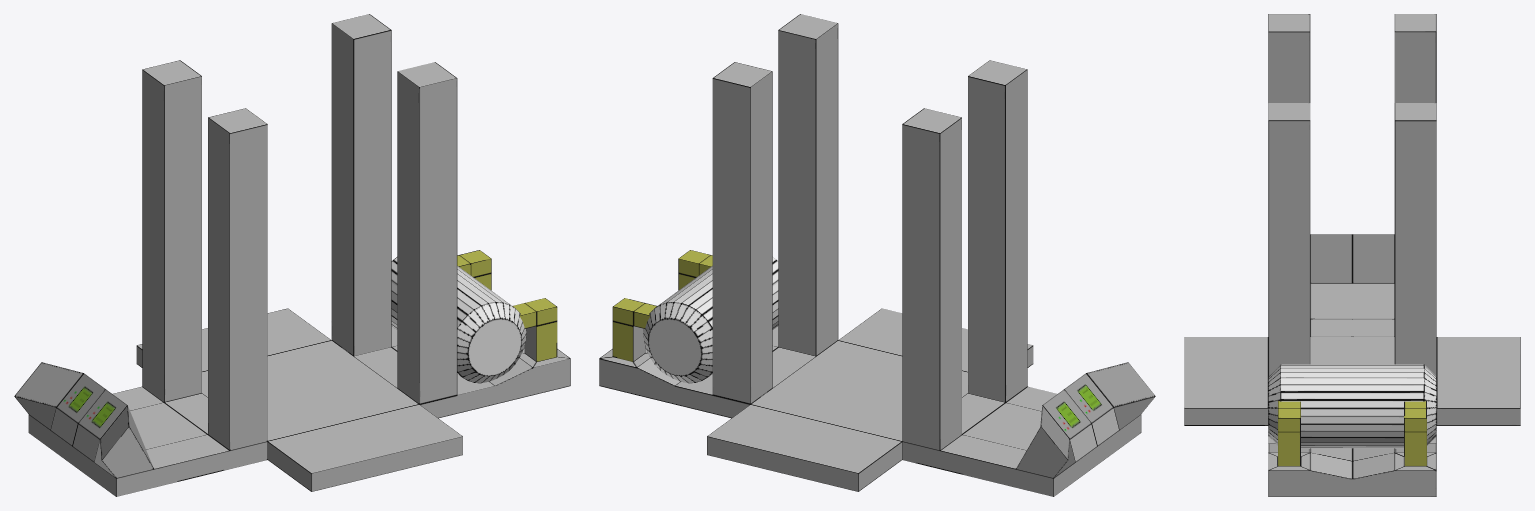
Rendered from launcher.obj.
3 renders of one model, left to right at view 1: azimuth 30°, elevation 25°; view 2: azimuth 150°, elevation 25°; view 3: azimuth 270°, elevation 25°, orthographic. The views are drawn at different scales.
Parts seen in each view (by area): view 1: launcher_Cube.005; view 2: launcher_Cube.005; view 3: launcher_Cube.005.
Boxes of the visible parts, <box> form: launcher_Cube.005: <box>14,14,570,496</box>; launcher_Cube.005: <box>599,14,1155,496</box>; launcher_Cube.005: <box>1184,14,1520,496</box>.
Size of the model in its own units: 6.19 by 4.23 by 4.
Materials: 1 (1 with a texture image).
